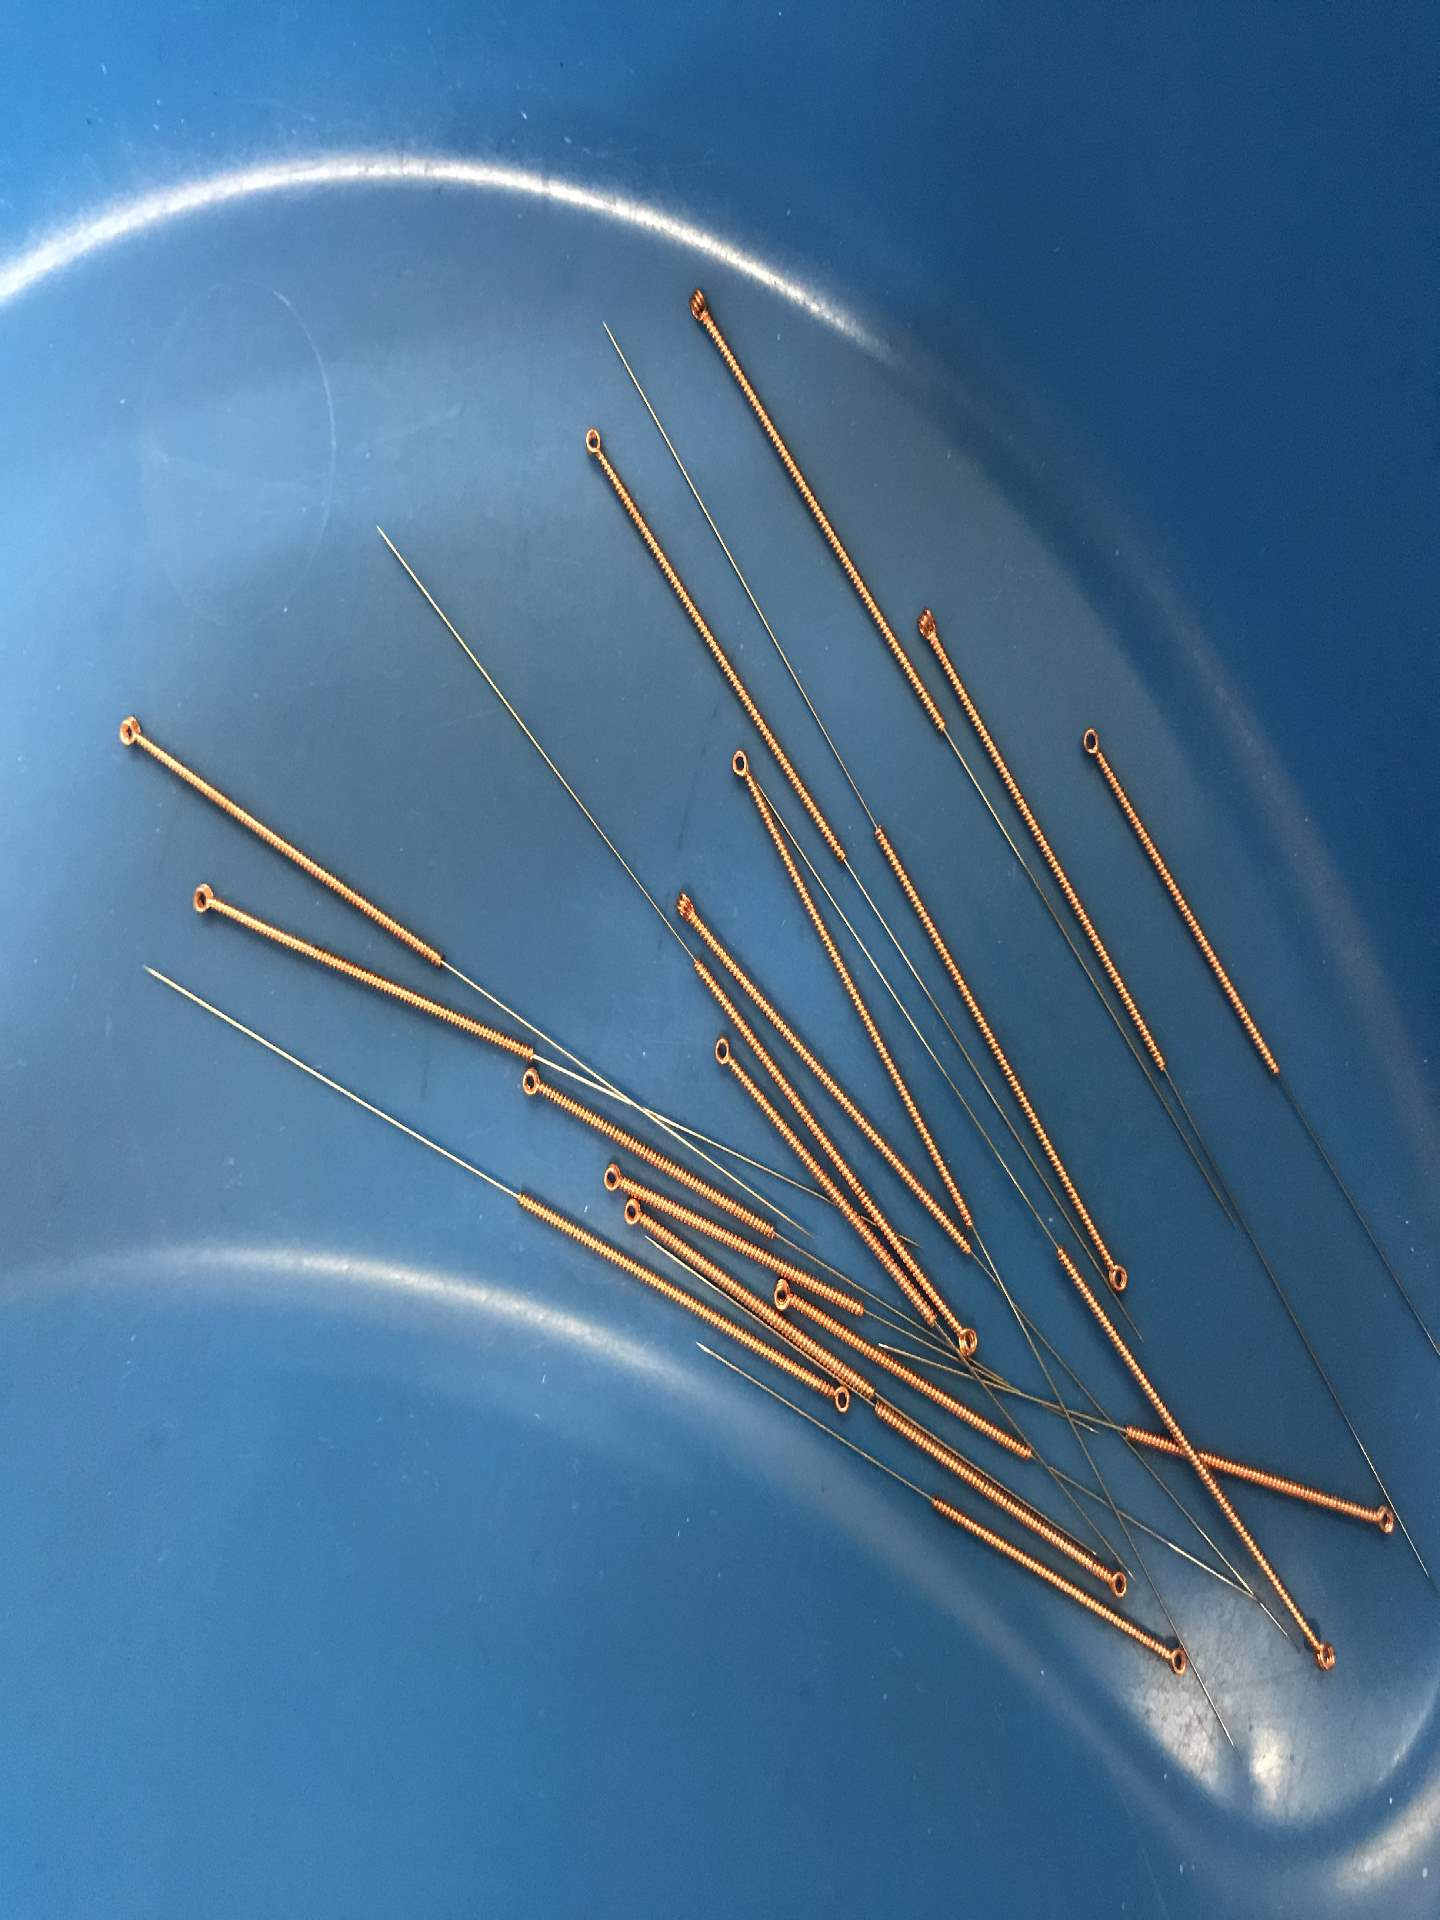needle: (178, 872, 228, 927), (906, 599, 951, 655), (104, 708, 153, 757), (678, 278, 718, 331), (510, 1063, 554, 1107), (1304, 1633, 1345, 1677), (1366, 1498, 1404, 1544), (705, 1033, 743, 1078), (666, 883, 702, 930), (1159, 1636, 1193, 1683), (725, 742, 758, 791), (578, 420, 611, 467), (1101, 1253, 1134, 1299), (1072, 720, 1106, 763), (1100, 1562, 1133, 1604), (951, 1321, 983, 1361), (594, 1157, 626, 1194), (823, 1380, 855, 1418), (616, 1194, 646, 1232), (771, 1274, 799, 1314)
